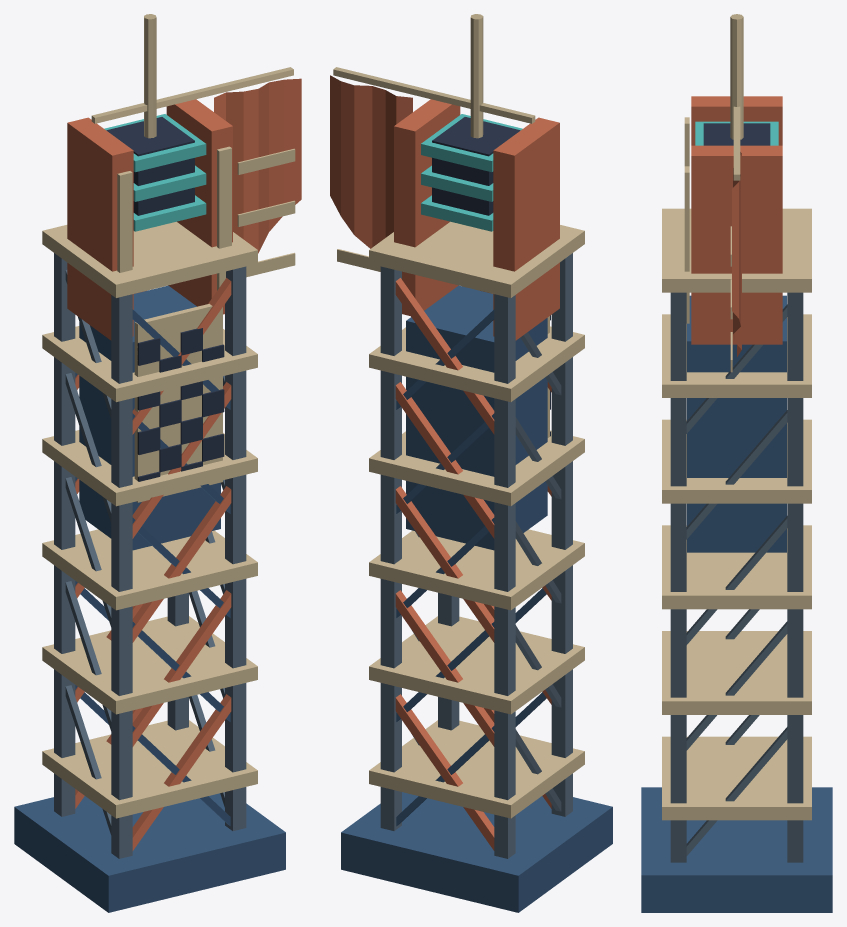
Rendered from finish-tower.glb.
The picture shows the model from 3 angles, left to right: view 1: azimuth 30°, elevation 25°; view 2: azimuth 150°, elevation 25°; view 3: azimuth 270°, elevation 25°; orthographic projection.
Parts seen in each view (by area): view 1: finish-tower; view 2: finish-tower; view 3: finish-tower.
Part boxes in pixels (x1,y1,x2,y2): finish-tower: [14, 14, 301, 912]; finish-tower: [330, 14, 612, 912]; finish-tower: [641, 14, 832, 912].
Bounding box in the file's own units: 33.5 × 113 × 23.
